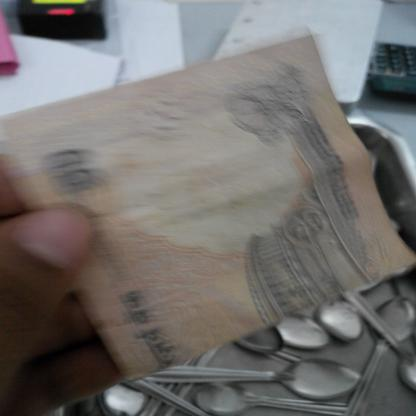Old50Back: (0, 29, 416, 382)
